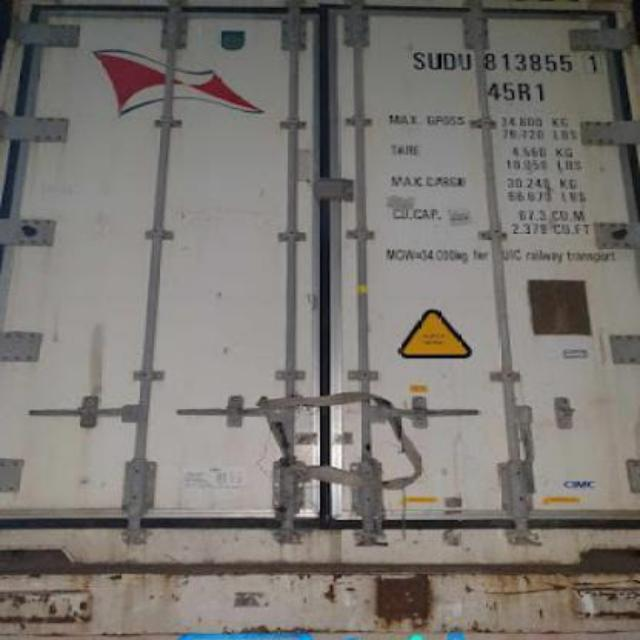1: (584, 54, 602, 74), (498, 51, 514, 71)
3: (516, 52, 528, 72)
5: (558, 52, 574, 74), (544, 51, 558, 74)
8: (484, 51, 498, 74), (530, 52, 542, 72)
D: (442, 52, 458, 72)
S: (410, 50, 426, 72)
U: (426, 50, 442, 72), (458, 51, 472, 74)
